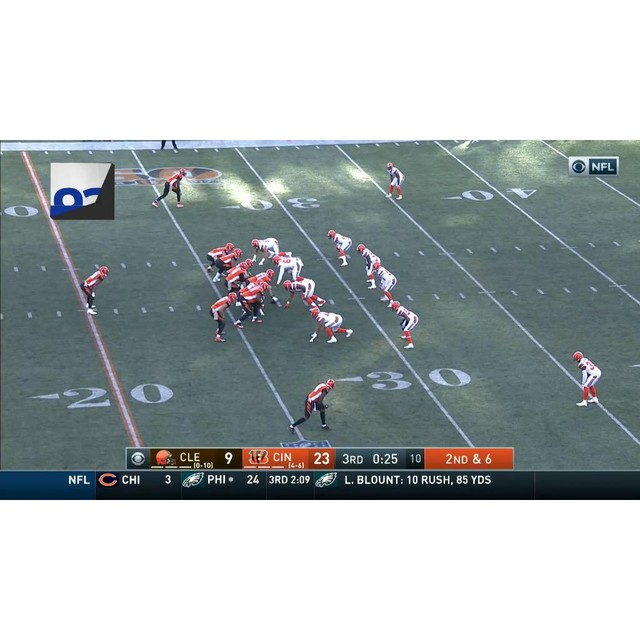american-football-player: (287, 380, 335, 433), (572, 352, 602, 407), (308, 308, 353, 344), (210, 291, 240, 342), (235, 284, 268, 328), (152, 168, 187, 208), (390, 301, 418, 349), (283, 278, 325, 309), (82, 265, 108, 314), (371, 261, 397, 307), (249, 268, 281, 305), (356, 243, 381, 289), (271, 254, 304, 286), (212, 249, 242, 282), (328, 229, 352, 267), (224, 260, 252, 292), (251, 237, 279, 266), (207, 243, 233, 274), (384, 161, 404, 199)
